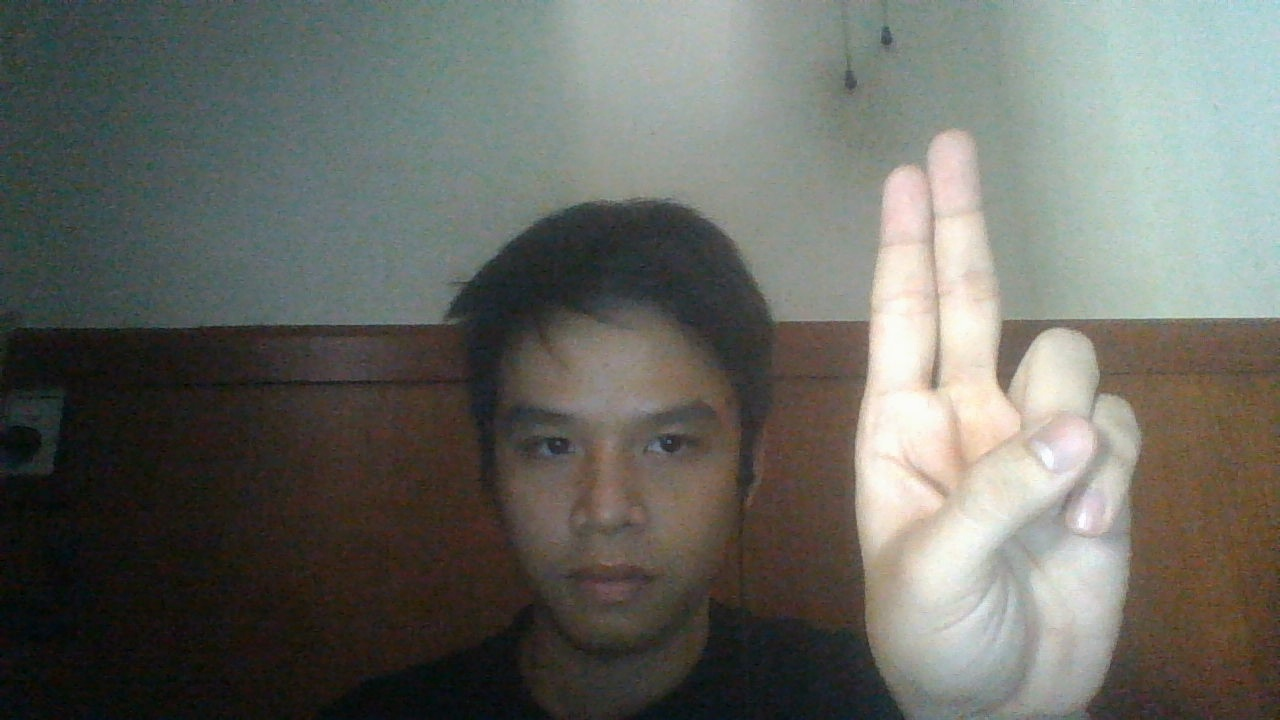write2: (853, 123, 1140, 720)
